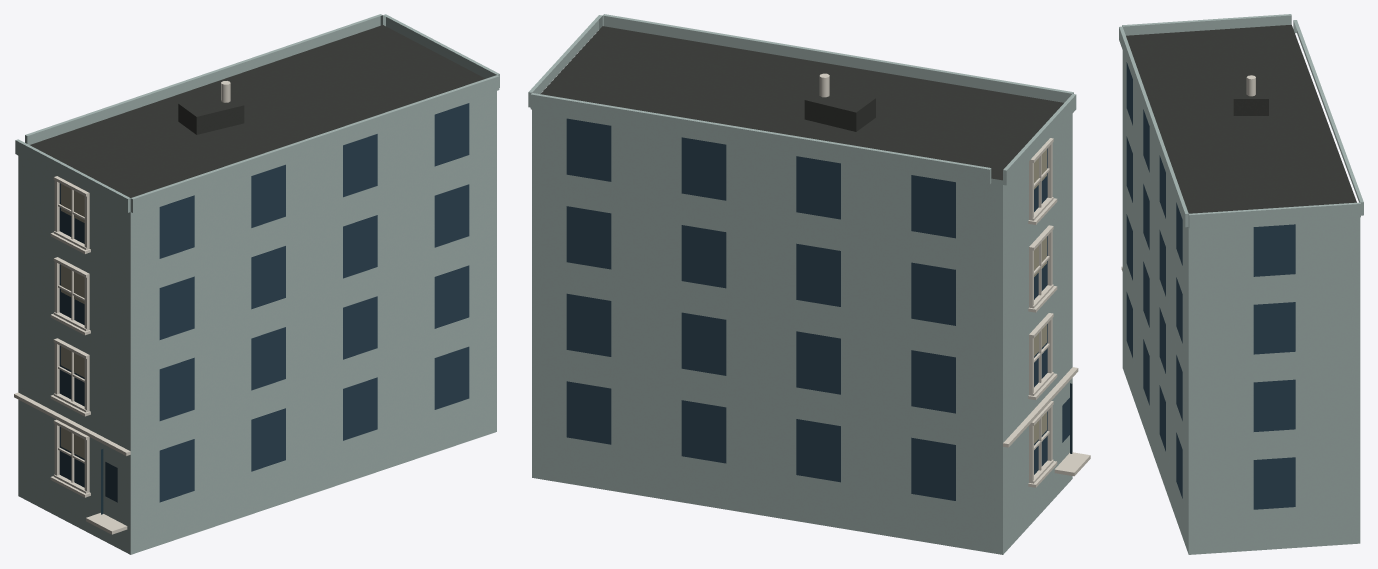
3 renders of one model, left to right at view 1: azimuth 30°, elevation 25°; view 2: azimuth 150°, elevation 25°; view 3: azimuth 270°, elevation 25°, orthographic. The views are drawn at different scales.
Parts seen in each view (by area): view 1: Footprint 0 / surface 2, Inset glazing, Footprint 0 / surface 1, Facade bay volumes, Cornices and window frames, Interior blind variation, Inferred rooftop service enclosure / surface 5, Inferred rooftop service enclosure / surface 3; view 2: Footprint 0 / surface 2, Inset glazing, Footprint 0 / surface 1, Facade bay volumes, Cornices and window frames, Inferred rooftop service enclosure / surface 6, Inferred rooftop service enclosure / surface 3, Interior blind variation; view 3: Footprint 0 / surface 2, Footprint 0 / surface 1, Inset glazing, Facade bay volumes, Inferred rooftop service enclosure / surface 3, Inferred rooftop service enclosure / surface 1.
Boxes of the visible parts, <box> form: Footprint 0 / surface 2: <box>18,91,496,554</box>; Inset glazing: <box>59,103,469,502</box>; Footprint 0 / surface 1: <box>30,25,485,197</box>; Facade bay volumes: <box>15,14,499,212</box>; Cornices and window frames: <box>14,176,130,534</box>; Interior blind variation: <box>61,184,84,458</box>; Inferred rooftop service enclosure / surface 5: <box>196,105,244,134</box>; Inferred rooftop service enclosure / surface 3: <box>178,93,243,116</box>; Footprint 0 / surface 2: <box>532,109,1072,554</box>; Inset glazing: <box>566,118,1069,500</box>; Footprint 0 / surface 1: <box>540,26,1063,180</box>; Facade bay volumes: <box>528,14,1076,185</box>; Cornices and window frames: <box>1003,138,1090,487</box>; Inferred rooftop service enclosure / surface 6: <box>804,100,856,131</box>; Inferred rooftop service enclosure / surface 3: <box>805,87,875,112</box>; Interior blind variation: <box>1034,149,1046,443</box>; Footprint 0 / surface 2: <box>1122,51,1360,554</box>; Footprint 0 / surface 1: <box>1126,24,1356,213</box>; Inset glazing: <box>1126,62,1295,509</box>; Facade bay volumes: <box>1119,14,1363,228</box>; Inferred rooftop service enclosure / surface 3: <box>1233,76,1268,98</box>; Inferred rooftop service enclosure / surface 1: <box>1233,99,1268,115</box>.
Bounding box in the file's own units: 16.32 × 13.81 × 8.36.
